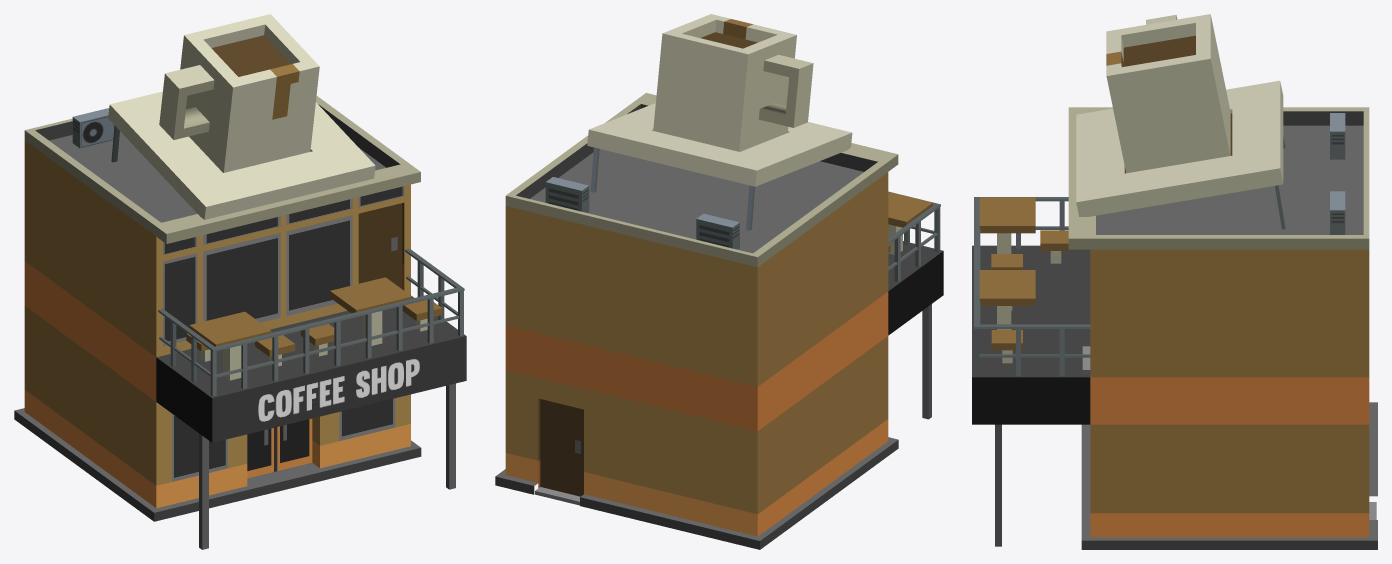
File: coffee_shop.obj
The picture shows the model from 3 angles, left to right: view 1: azimuth 30°, elevation 25°; view 2: azimuth 150°, elevation 25°; view 3: azimuth 270°, elevation 25°; orthographic projection. The views are drawn at different scales.
Parts seen in each view (by area): view 1: ST_Building_CoffeeShop_Untitled; view 2: ST_Building_CoffeeShop_Untitled; view 3: ST_Building_CoffeeShop_Untitled.
Boxes of the visible parts, x1,y1,x2,y2 form: ST_Building_CoffeeShop_Untitled: (14, 14, 466, 549); ST_Building_CoffeeShop_Untitled: (495, 14, 943, 549); ST_Building_CoffeeShop_Untitled: (972, 14, 1377, 549).
Size of the model in its own units: 10.4 by 15.63 by 12.92.
Materials: 1 (1 with a texture image).
